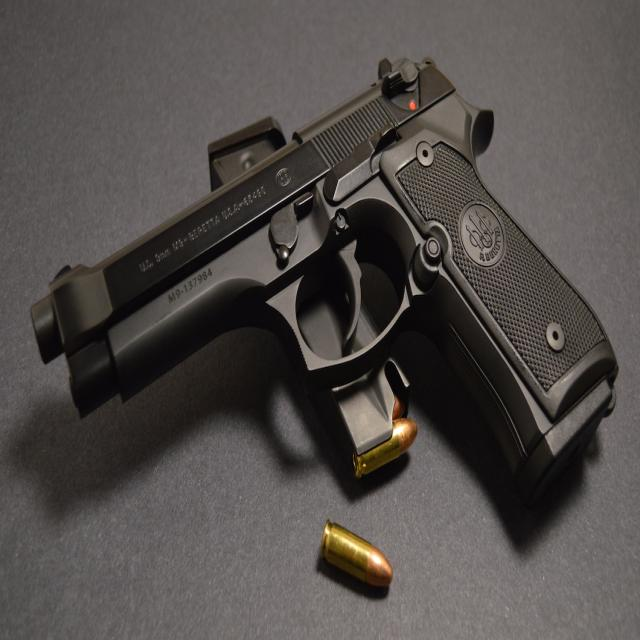Gun: (54, 67, 616, 585)
